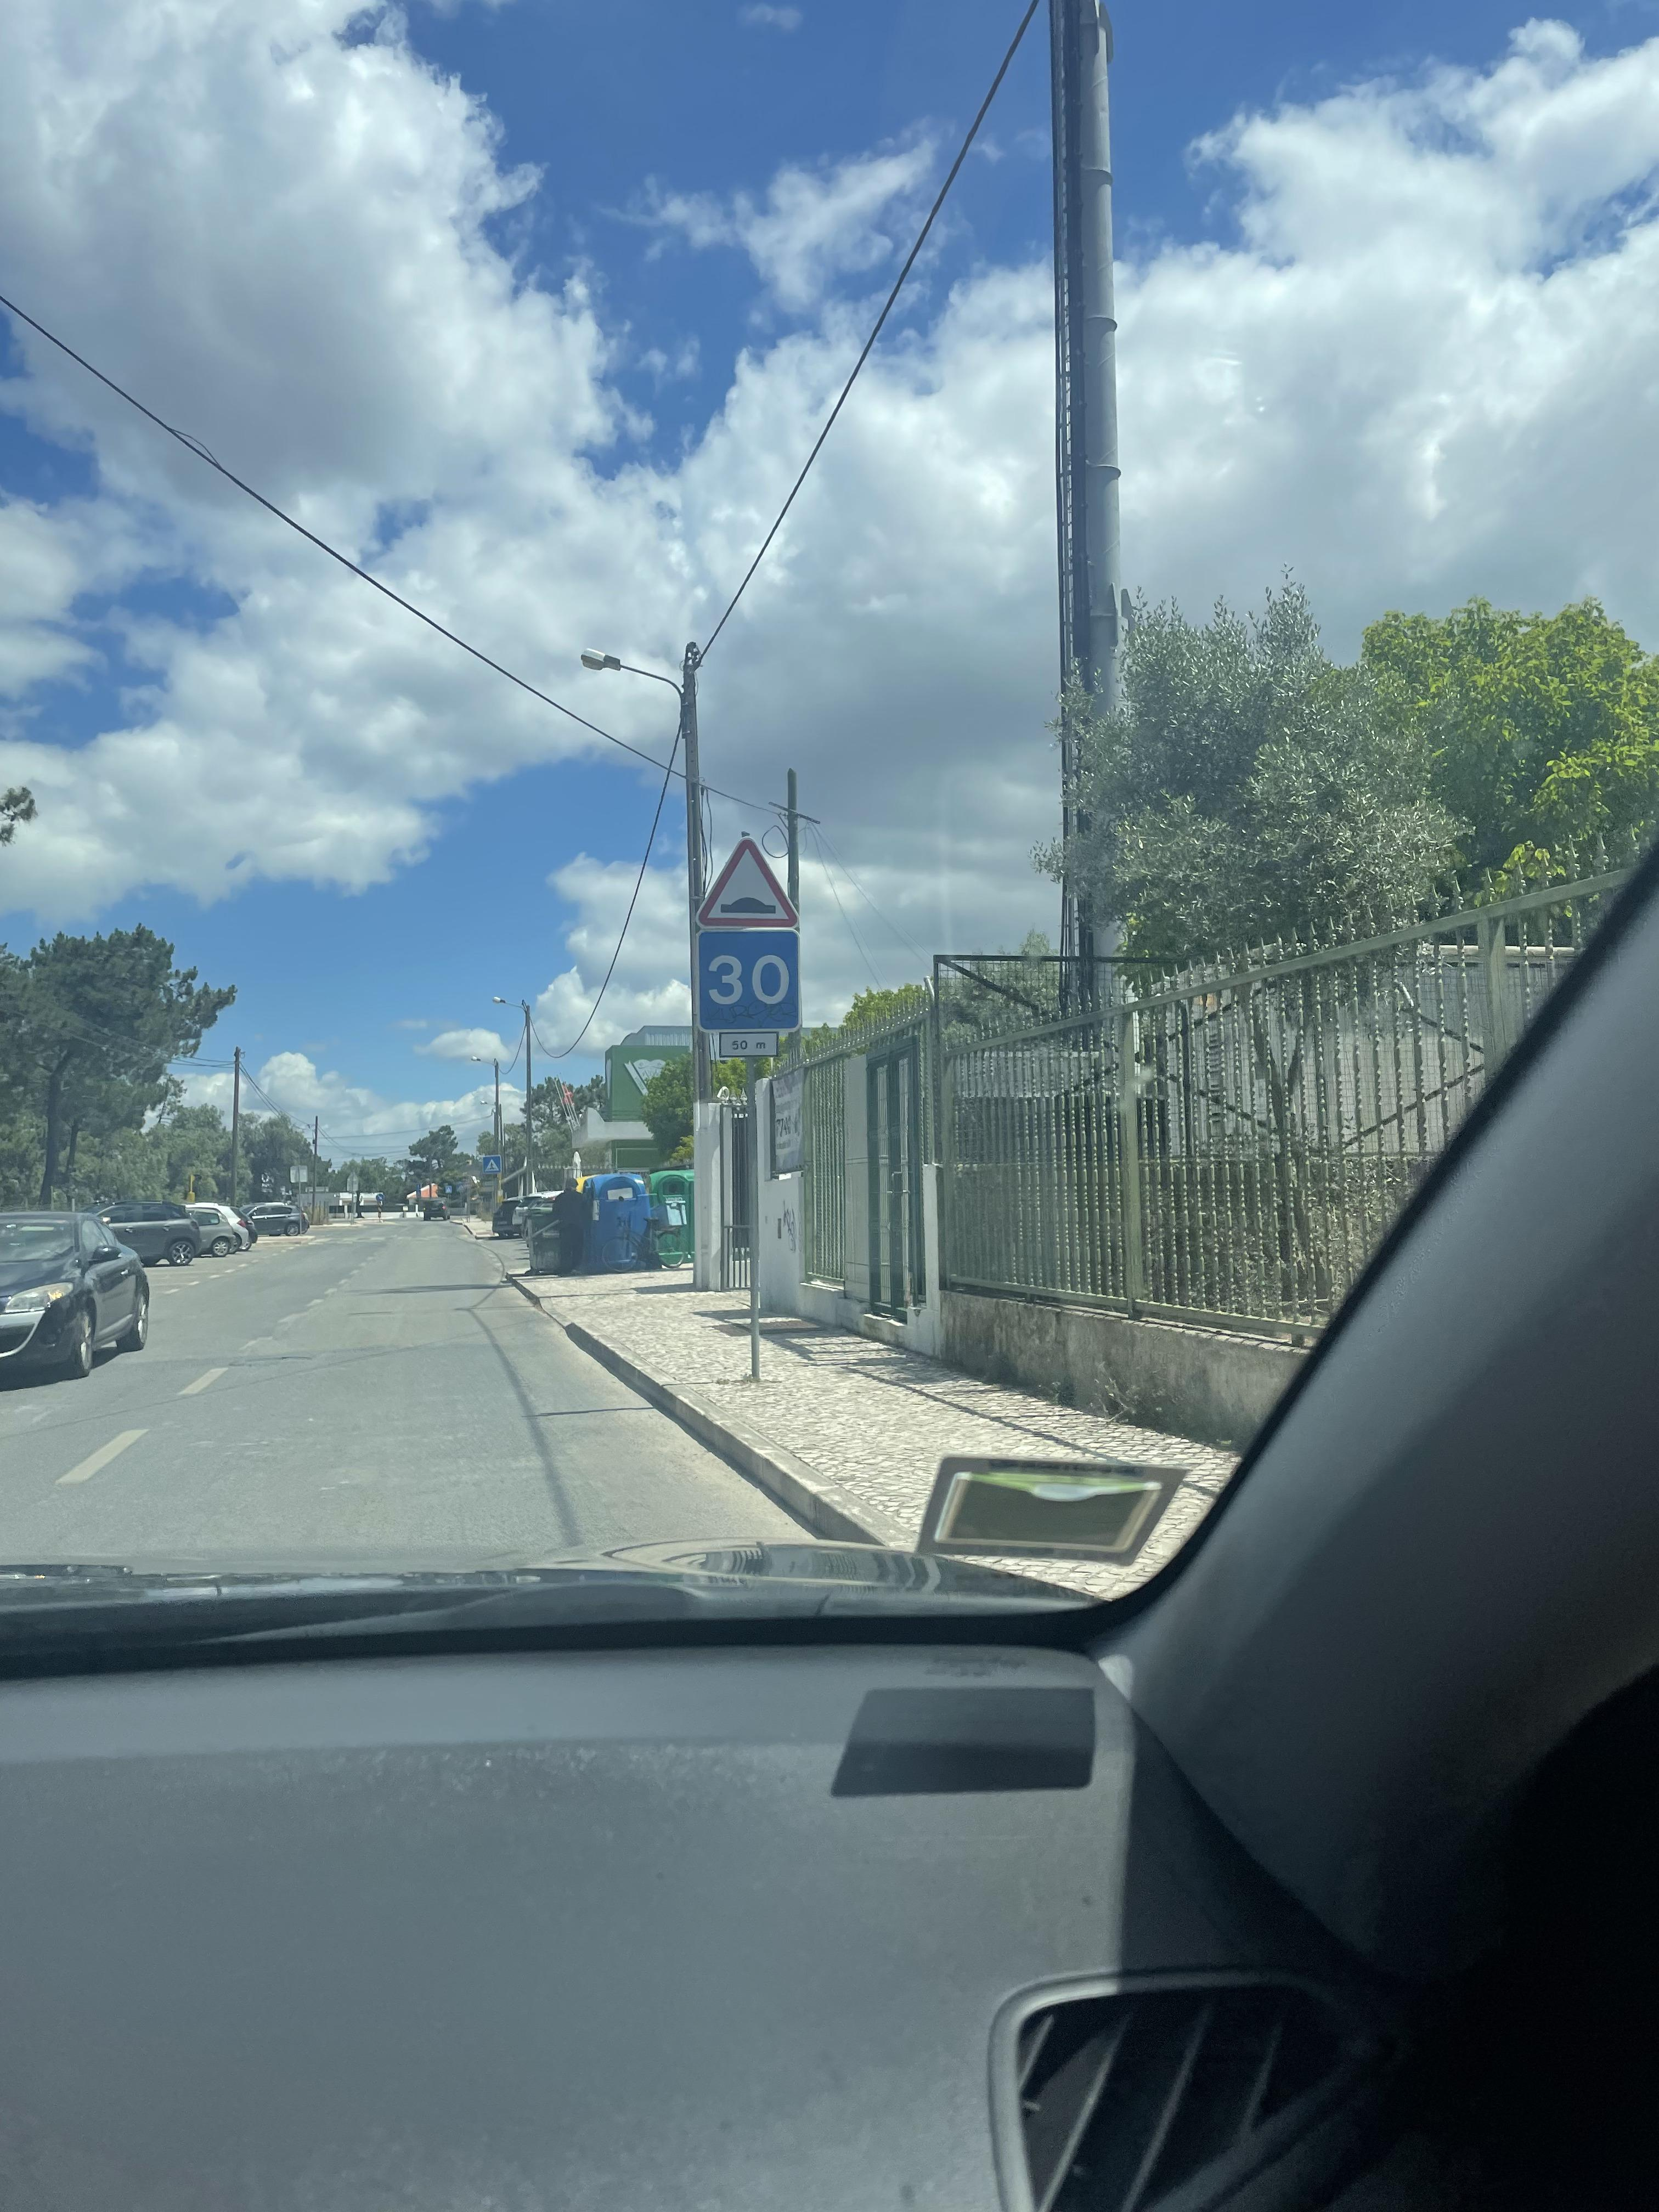lomba: (687, 815, 809, 935)
velocidade recomendada: (687, 932, 814, 1047)
